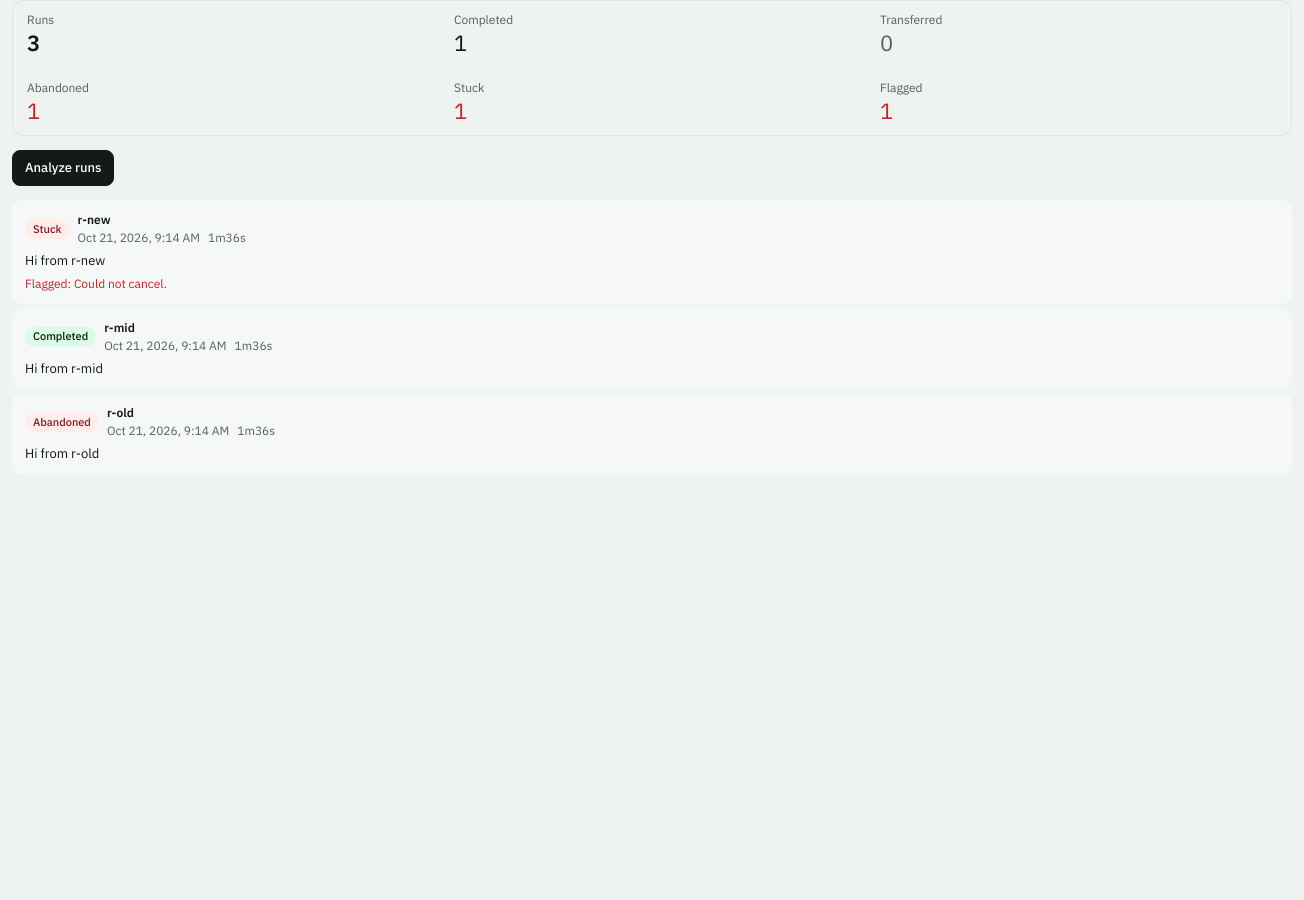
Scenario: RunsPanel › expands a run with transcript, transition notes and the path, naming missing nodes
What coordinates should you click on to do the following:
click the button "abandoned r-old Oct 21, 2026, 9:14 AM 1m36s Hi from r-old"
I would click on:
 (62, 422)
Its box is [12,393,1292,475].
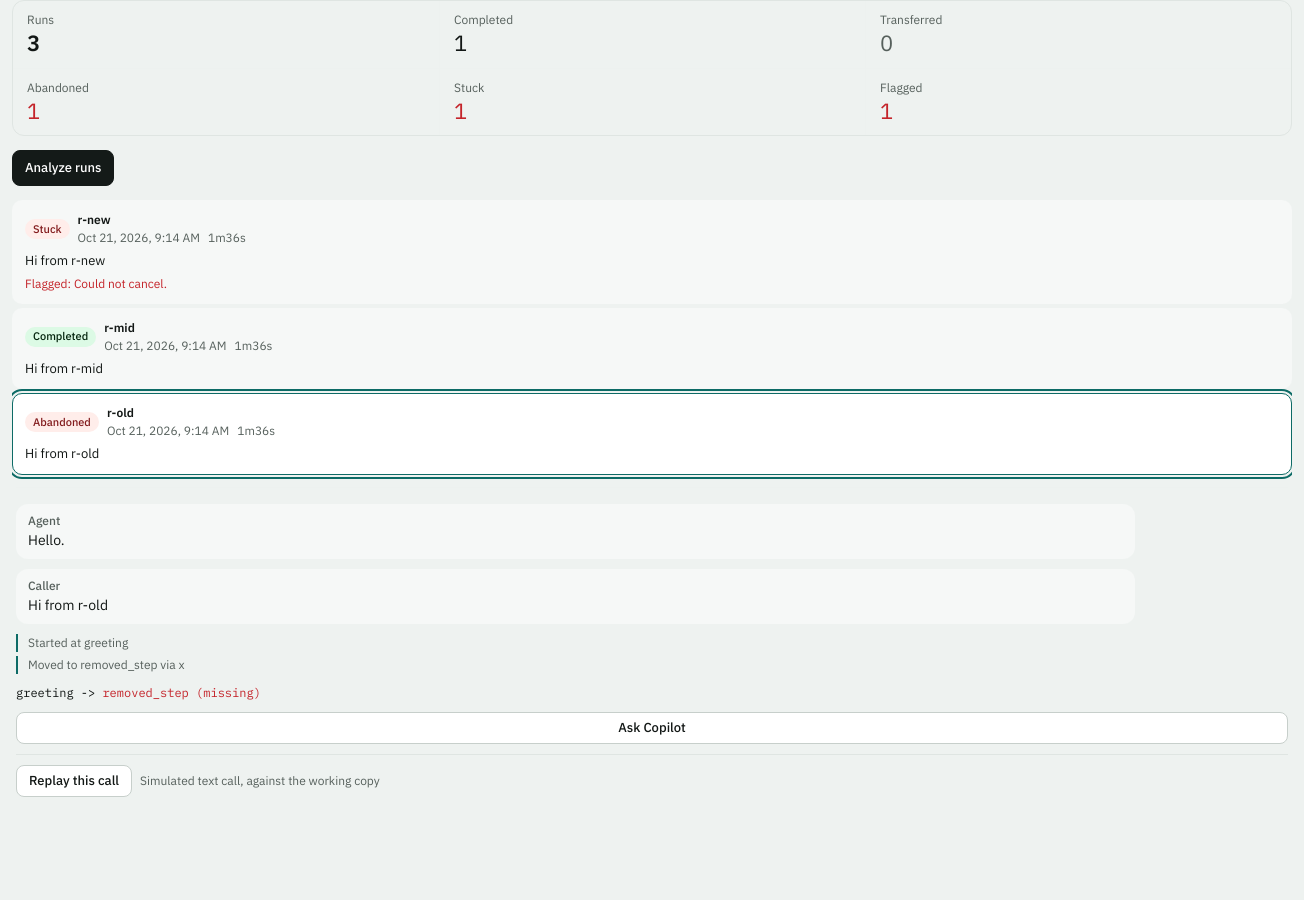
Now the list named "Transcript" shows "Hi from r-old", box [28,596,108,614]
Now the list named "Transitions" shows "Started at greeting", box [28,635,128,650]
Now the list named "Transitions" shows "Moved to removed_step via x", box [28,657,185,672]
What coordinates should you click on to do the following:
click the button "abandoned r-old Oct 21, 2026, 9:14 AM 1m36s Hi from r-old"
I would click on:
 (62, 422)
Its box is [12,393,1292,475].
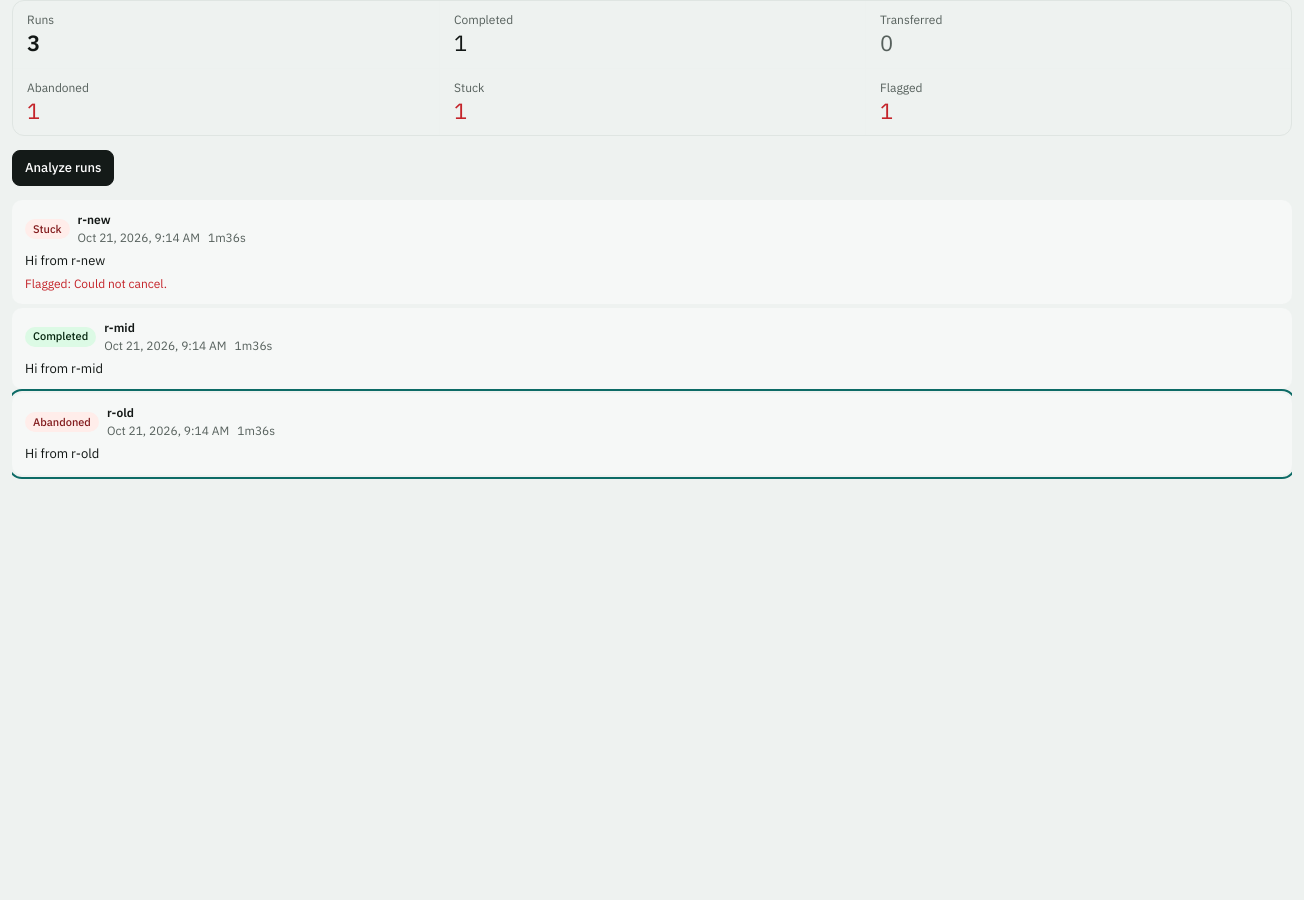
Now the list "Transcript" is gone
